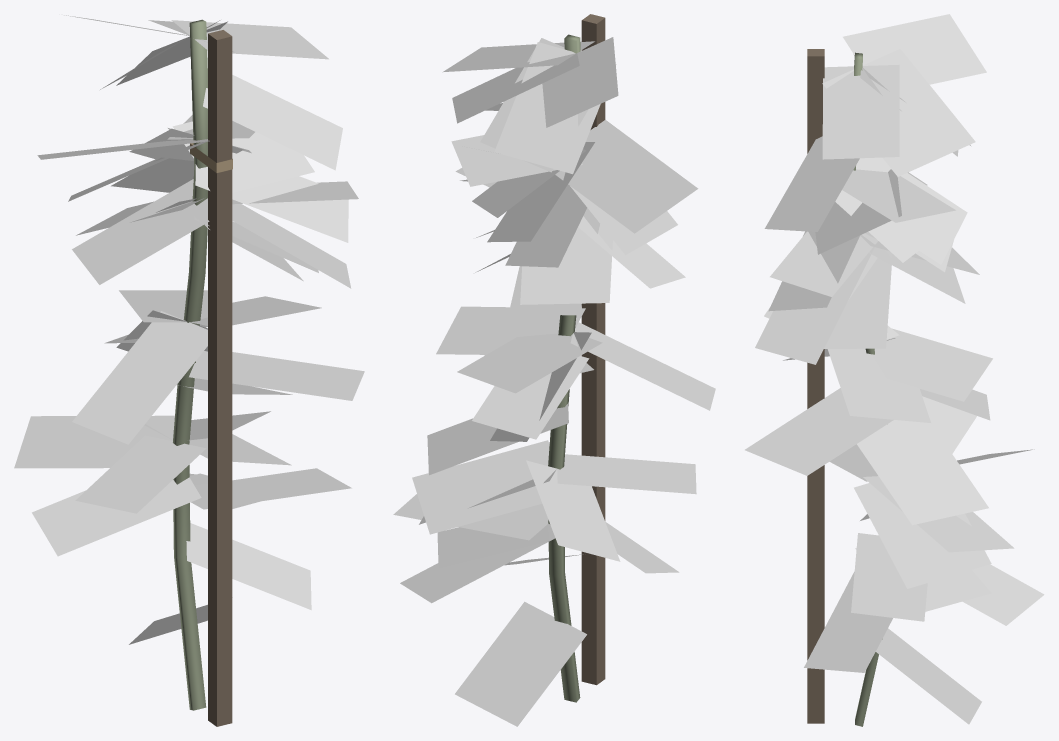
The model's file is FoodPlantSad.fbx.
3 views of the same model, side by side, from view 1: azimuth 30°, elevation 25°; view 2: azimuth 150°, elevation 25°; view 3: azimuth 270°, elevation 25° (orthographic). The views are drawn at different scales.
Parts seen in each view (by area): view 1: BézierCurve.002, Cube.002; view 2: BézierCurve.002, Cube.002; view 3: BézierCurve.002, Cube.002.
Boxes of the visible parts, x1=… form: BézierCurve.002: x1=14, y1=15, x2=364, y2=710; Cube.002: x1=208, y1=30, x2=232, y2=726; BézierCurve.002: x1=393, y1=34, x2=715, y2=726; Cube.002: x1=581, y1=14, x2=605, y2=685; BézierCurve.002: x1=745, y1=14, x2=1044, y2=726; Cube.002: x1=807, y1=49, x2=824, y2=723.
Size of the model in its own units: 67.69 by 151 by 61.14.
